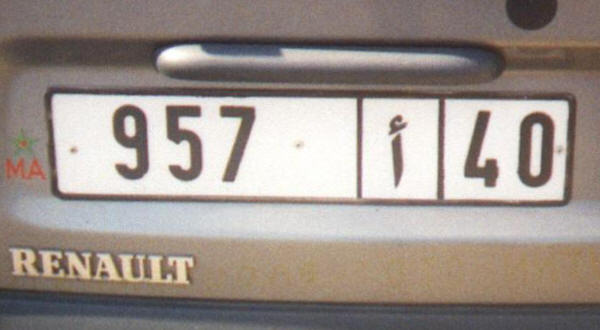number_plate: (51, 89, 572, 206)
